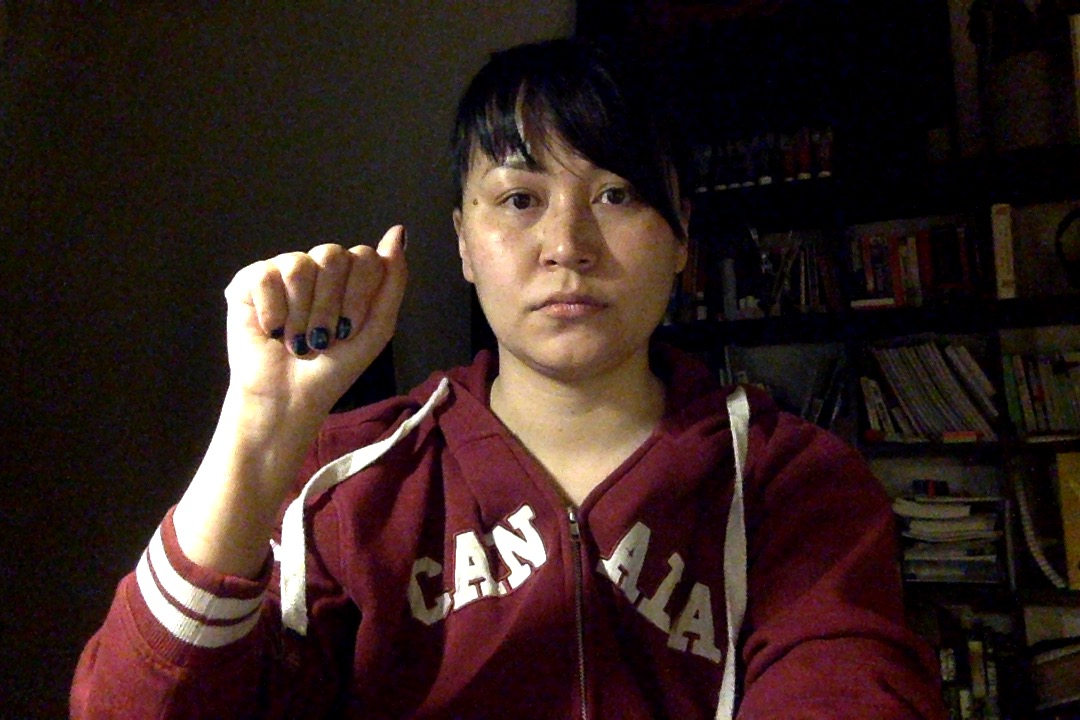a: (202, 214, 426, 448)
